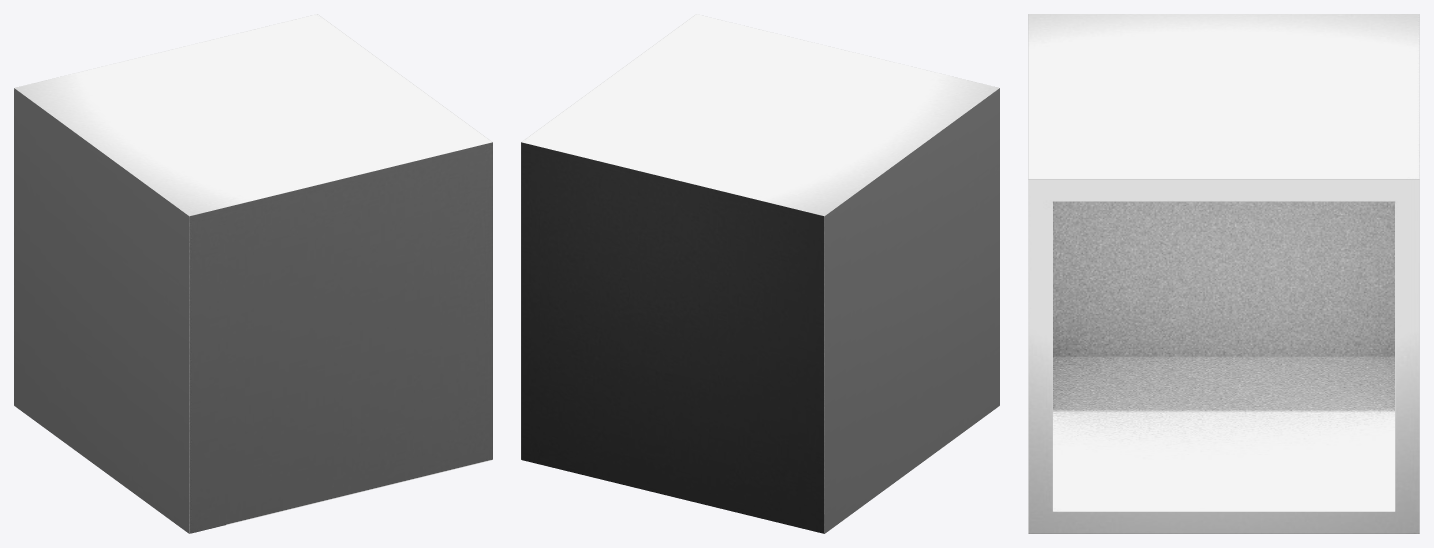
3 renders of one model, left to right at view 1: azimuth 30°, elevation 25°; view 2: azimuth 150°, elevation 25°; view 3: azimuth 270°, elevation 25°, orthographic. The views are drawn at different scales.
Parts seen in each view (by area): view 1: Cube.001; view 2: Cube.001; view 3: Cube.001.
Part boxes in pixels (x1,y1,x2,y2): Cube.001: [14, 14, 492, 533]; Cube.001: [521, 14, 999, 533]; Cube.001: [1028, 14, 1419, 533].
Bounding box in the file's own units: 1.2 × 1.2 × 1.2.
1 material, 1 textured.
